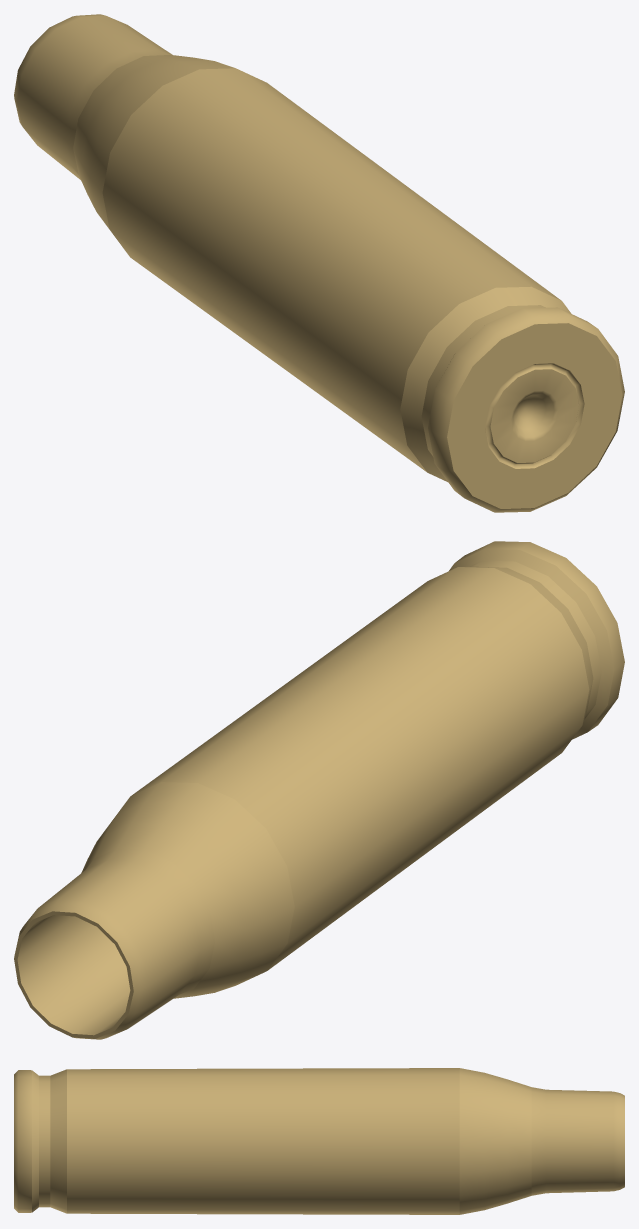
File: cartridge_case.glb
3 views of the same model, one above another, from view 1: azimuth 30°, elevation 25°; view 2: azimuth 150°, elevation 25°; view 3: azimuth 270°, elevation 25° (orthographic). The views are drawn at different scales.
Visible parts, largest first — view 1: NurbsPath.001; view 2: NurbsPath.001; view 3: NurbsPath.001.
Part boxes in pixels (x1,y1,x2,y2): NurbsPath.001: (14,14,624,512); NurbsPath.001: (14,541,624,1039); NurbsPath.001: (14,1068,624,1214).
Size of the model in its own units: 0.012 by 0.0119 by 0.0494.
